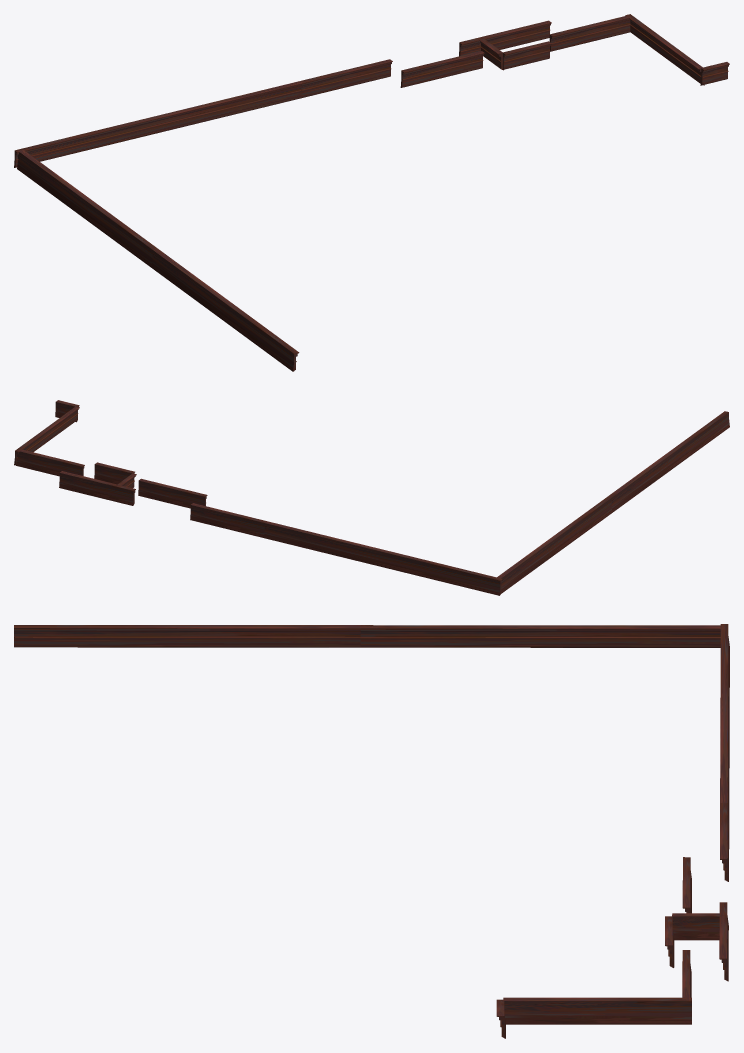
Rendered from kitchen molding.glb.
3 renders of one model, top to bottom at view 1: azimuth 30°, elevation 25°; view 2: azimuth 150°, elevation 25°; view 3: azimuth 270°, elevation 25°, orthographic. The views are drawn at different scales.
Visible parts, largest first — view 1: Cube.039, Cube.056, Cube.055, Cube.038, Cube.041, Cube.059, Cube.051, Cube.042, Cube.047; view 2: Cube.039, Cube.056, Cube.055, Cube.051, Cube.038, Cube.041, Cube.059, Cube.042, Cube.047; view 3: Cube.055, Cube.056, Cube.042, Cube.039, Cube.045, Cube.051.
Part boxes in pixels (box(x1,y1,x2,y2)): Cube.039: box(14, 81, 303, 167); Cube.056: box(151, 249, 299, 371); Cube.055: box(17, 150, 164, 267); Cube.038: box(301, 59, 392, 98); Cube.041: box(400, 51, 484, 87); Cube.059: box(549, 16, 630, 51); Cube.051: box(459, 20, 551, 56); Cube.042: box(625, 14, 704, 85); Cube.047: box(503, 41, 551, 69); Cube.039: box(264, 521, 502, 595); Cube.056: box(611, 411, 729, 512); Cube.055: box(496, 492, 616, 593); Cube.051: box(59, 471, 135, 505); Cube.038: box(190, 503, 266, 537); Cube.041: box(138, 478, 207, 508); Cube.059: box(15, 449, 84, 476); Cube.042: box(14, 406, 79, 465); Cube.047: box(94, 462, 134, 484); Cube.055: box(360, 625, 724, 647); Cube.056: box(14, 625, 378, 647); Cube.042: box(503, 997, 691, 1024); Cube.039: box(720, 624, 729, 824); Cube.045: box(672, 913, 725, 940); Cube.051: box(719, 902, 728, 981).
Bounding box in the file's own units: 16.2 × 0.4449 × 12.51.
Materials: 1 (1 with a texture image).
